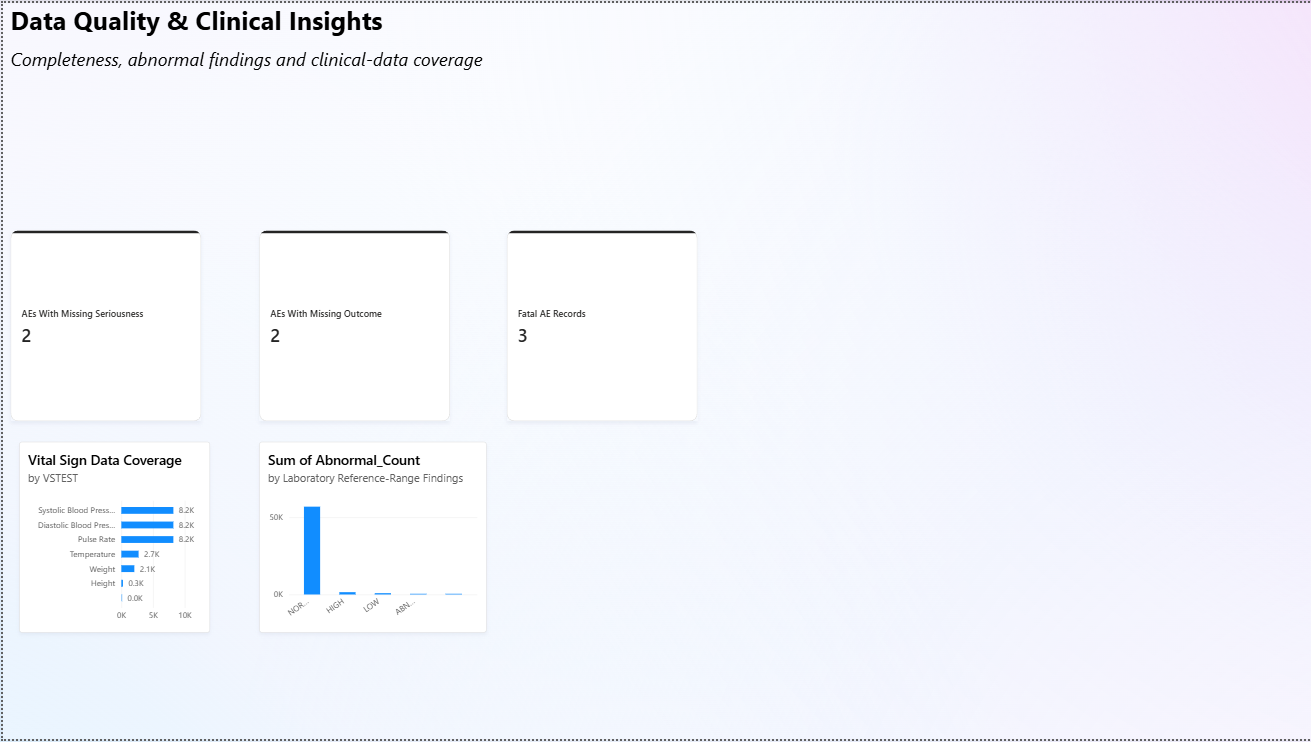

The page's visual inventory and layout, read from the dashboard file:
{"tool":"powerbi","page":{"name":"Data Quality/Clinical Insights","canvas":[1920,1080],"ordinal":2},"visuals":[{"type":"cardVisual","fields":{"Data":["Sum(AE_Seriousness.AE_Count)"]},"box":[10.3,333.4,280,280],"z":0},{"type":"cardVisual","fields":{"Data":["Sum(AE_Outcome.AE_Count)"]},"box":[376.7,333.4,280,280],"z":1},{"type":"cardVisual","fields":{"Data":["Sum(AE_Outcome.AE_Count)"]},"box":[738.9,333.4,280,280],"z":2},{"type":"clusteredColumnChart","fields":{"Category":["LB_Abnormal.LBNRIND"],"Y":["Sum(LB_Abnormal.Abnormal_Count)"]},"box":[376.7,644.3,333.4,279.9],"z":3},{"type":"clusteredBarChart","fields":{"Category":["VS_Summary.VSTEST"],"Y":["Sum(VS_Summary.VS_Record_Count)"]},"box":[24.7,644.3,280,280],"z":4},{"type":"textbox","box":[10,741,280,280],"z":5},{"type":"textbox","box":[331.4,741,889.2,279.9],"z":6},{"type":"textbox","box":[10.3,0,699.8,63.8],"z":7},{"type":"textbox","box":[10.3,63.8,699.8,78.2],"z":8}]}

Visuals, with their boxes in screenshot pixels (x1, y1, x2, y2), scaled from the page's 1920x1080 canvas onto the 1311x742 screenshot:
cardVisual - Sum(AE_Seriousness.AE_Count): crop(7, 229, 198, 421)
cardVisual - Sum(AE_Outcome.AE_Count): crop(257, 229, 448, 421)
cardVisual - Sum(AE_Outcome.AE_Count): crop(505, 229, 696, 421)
clusteredColumnChart - LB_Abnormal.LBNRIND x Sum(LB_Abnormal.Abnormal_Count): crop(257, 443, 485, 635)
clusteredBarChart - VS_Summary.VSTEST x Sum(VS_Summary.VS_Record_Count): crop(17, 443, 208, 635)
textbox: crop(7, 509, 198, 701)
textbox: crop(226, 509, 833, 701)
textbox: crop(7, 0, 485, 44)
textbox: crop(7, 44, 485, 98)
